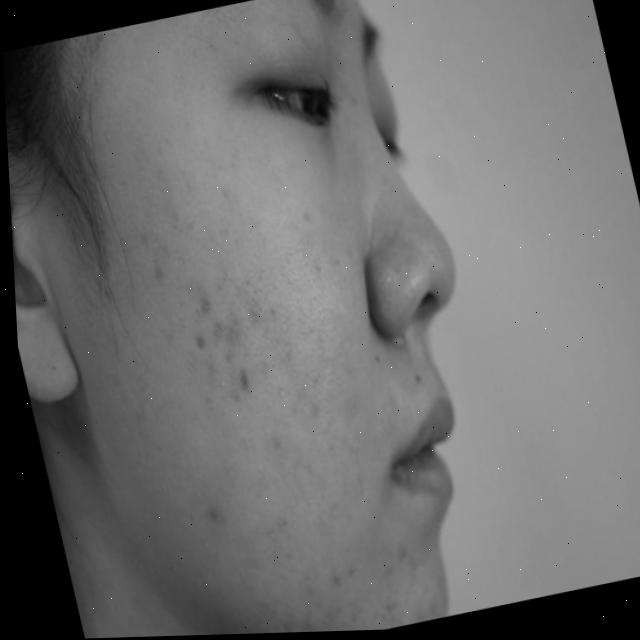Acne: (120, 151, 413, 589)
